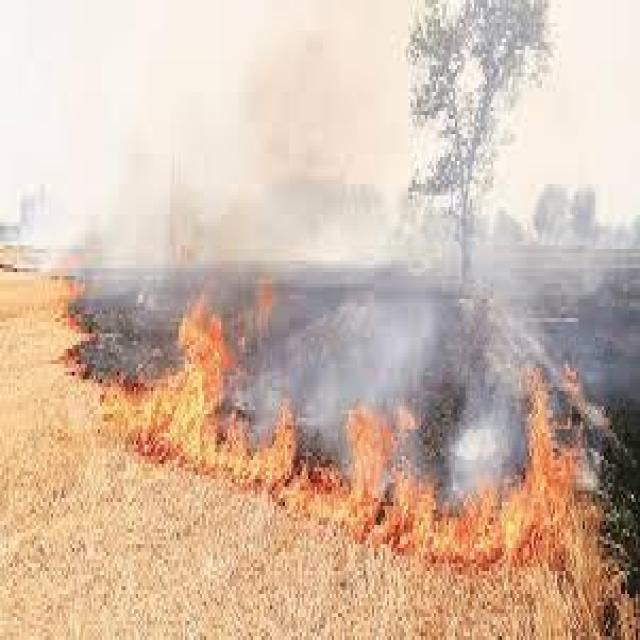Fire: (506, 363, 584, 569), (143, 316, 230, 476), (340, 412, 408, 555), (239, 408, 326, 510), (412, 489, 500, 582)
Smoke: (181, 58, 355, 246), (466, 193, 614, 336), (310, 267, 444, 405), (99, 238, 173, 318), (461, 348, 501, 488), (248, 272, 298, 360)
